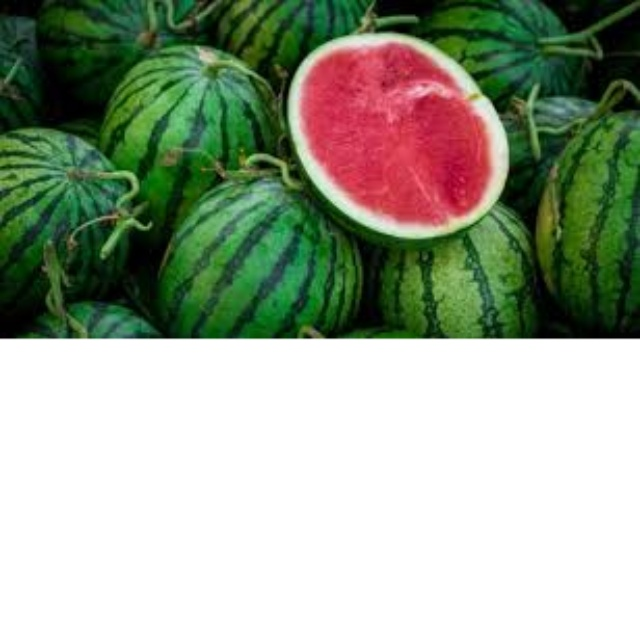dua_hau: (282, 32, 515, 248), (161, 169, 364, 334), (108, 53, 283, 233), (1, 127, 132, 311), (530, 115, 640, 332), (364, 207, 537, 333), (409, 2, 598, 102), (36, 1, 215, 98), (218, 1, 386, 67)
